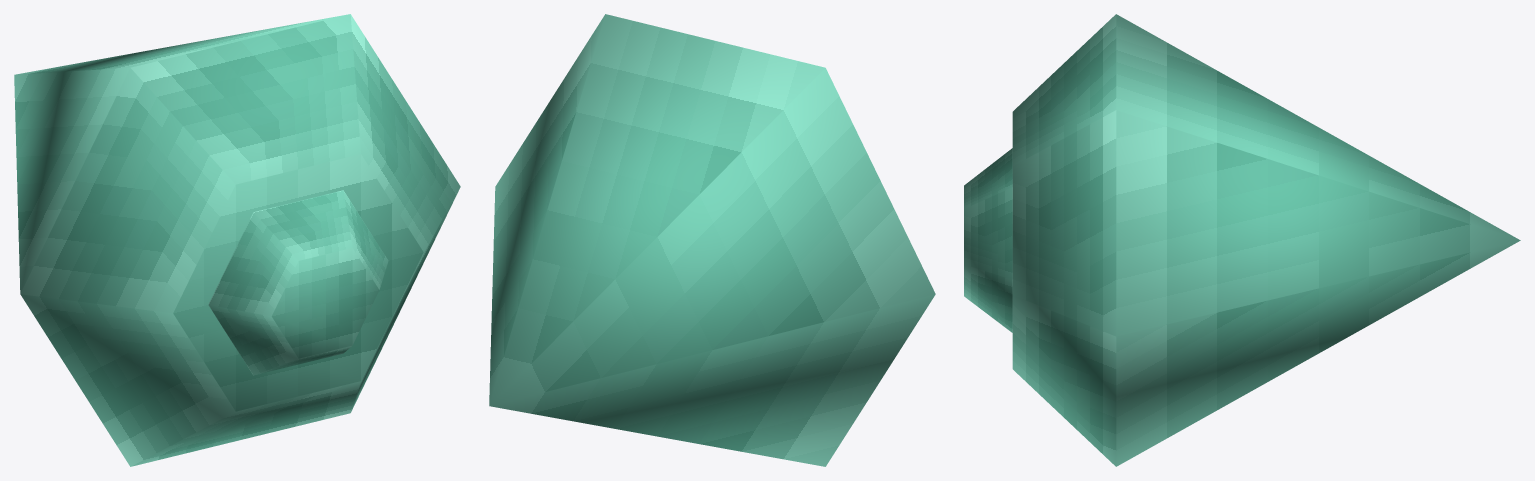
File: JewelOfSkill.glb
The picture shows the model from 3 angles, left to right: view 1: azimuth 30°, elevation 25°; view 2: azimuth 150°, elevation 25°; view 3: azimuth 270°, elevation 25°; orthographic projection. The views are drawn at different scales.
Visible parts, largest first — view 1: model_JewelOfSkill; view 2: model_JewelOfSkill; view 3: model_JewelOfSkill.
Boxes of the visible parts, left/top/right/bottom form: model_JewelOfSkill: left=14, top=14, right=460, bottom=466; model_JewelOfSkill: left=489, top=14, right=935, bottom=466; model_JewelOfSkill: left=964, top=14, right=1520, bottom=466.
Bounding box in the file's own units: 0.2463 × 0.2133 × 0.3015.
1 material, 1 textured.
